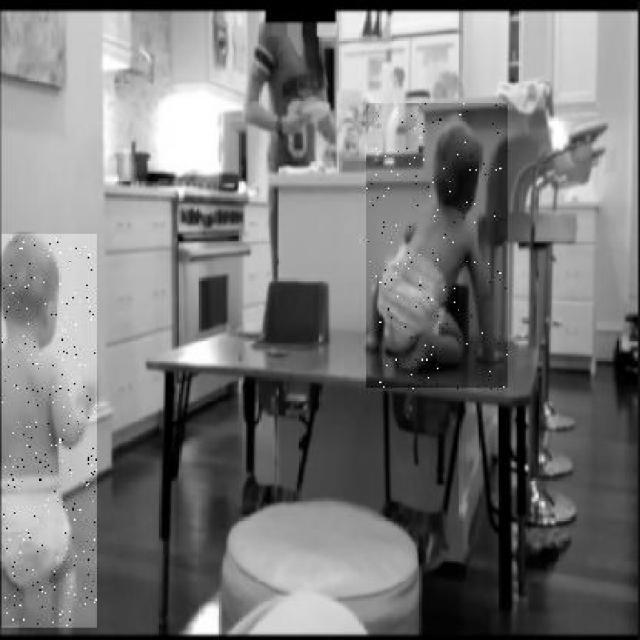child: (366, 104, 508, 390), (1, 235, 97, 629)
